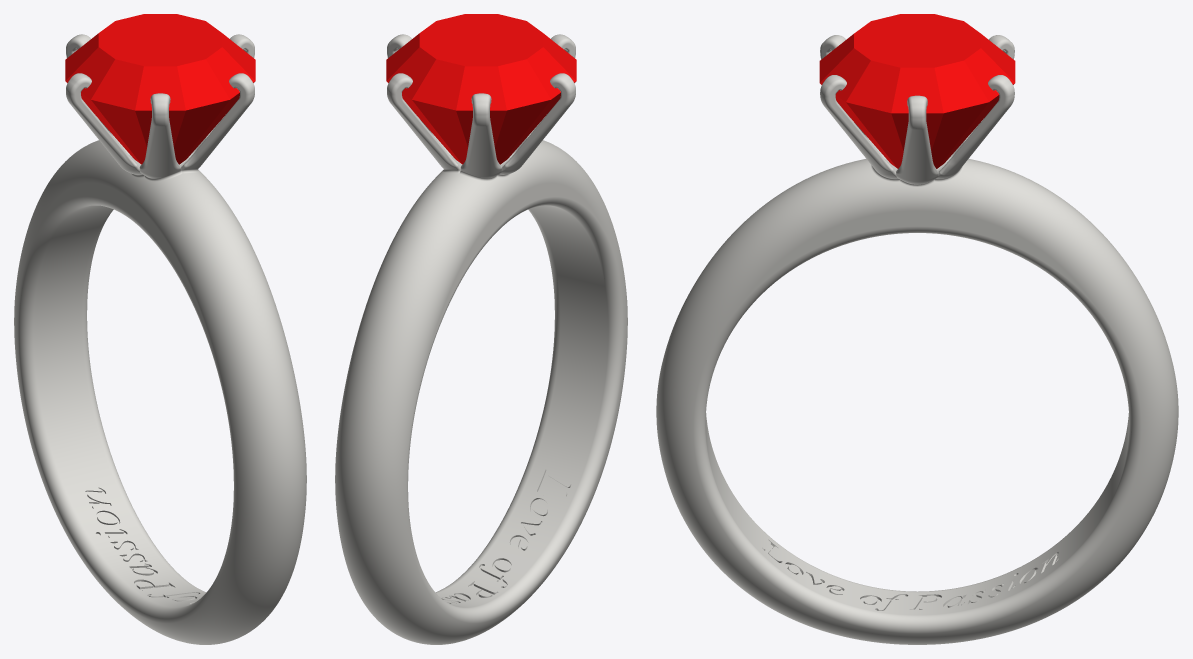
3 renders of one model, left to right at view 1: azimuth 30°, elevation 25°; view 2: azimuth 150°, elevation 25°; view 3: azimuth 270°, elevation 25°, orthographic. The views are drawn at different scales.
Parts seen in each view (by area): view 1: 零件1, Diamond; view 2: 零件1, Diamond; view 3: 零件1, Diamond.
Boxes of the visible parts, x1,y1,x2,y2 form: 零件1: [14, 34, 306, 644]; Diamond: [65, 14, 255, 164]; 零件1: [335, 34, 627, 644]; Diamond: [386, 14, 576, 164]; 零件1: [656, 35, 1178, 644]; Diamond: [819, 14, 1015, 168].
Bounding box in the file's own units: 0.0096 × 0.0289 × 0.0228.
